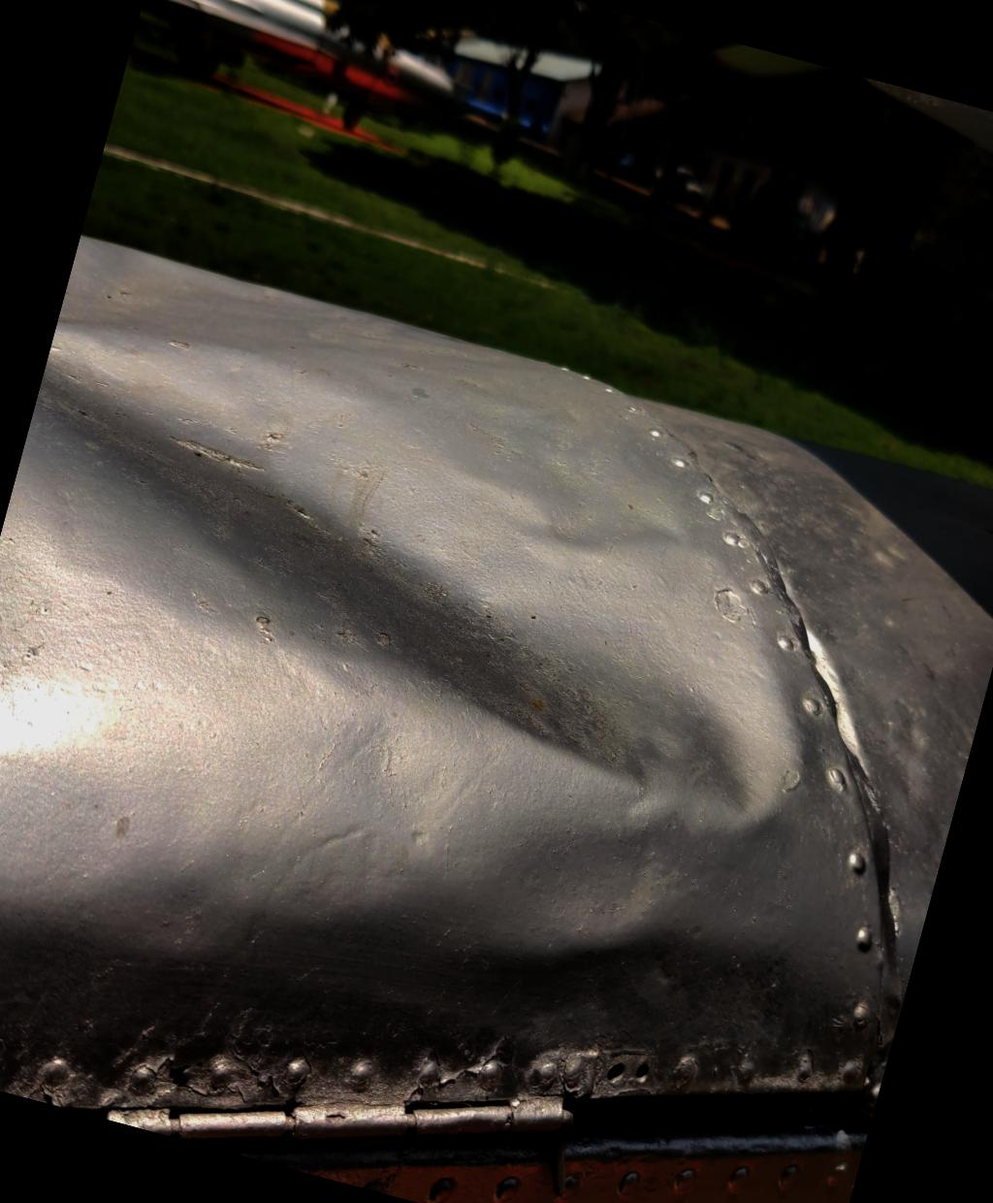dent: (0, 225, 943, 954)
